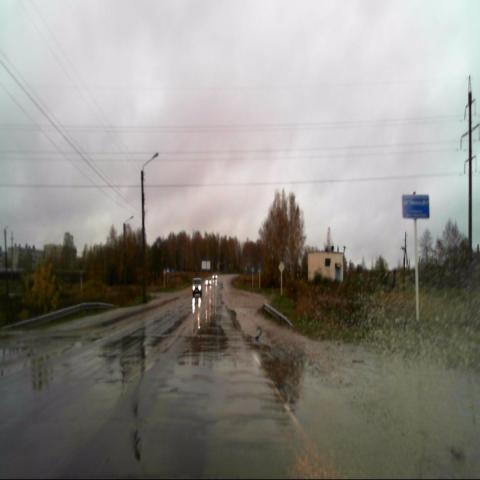2_1: (278, 260, 285, 272)
